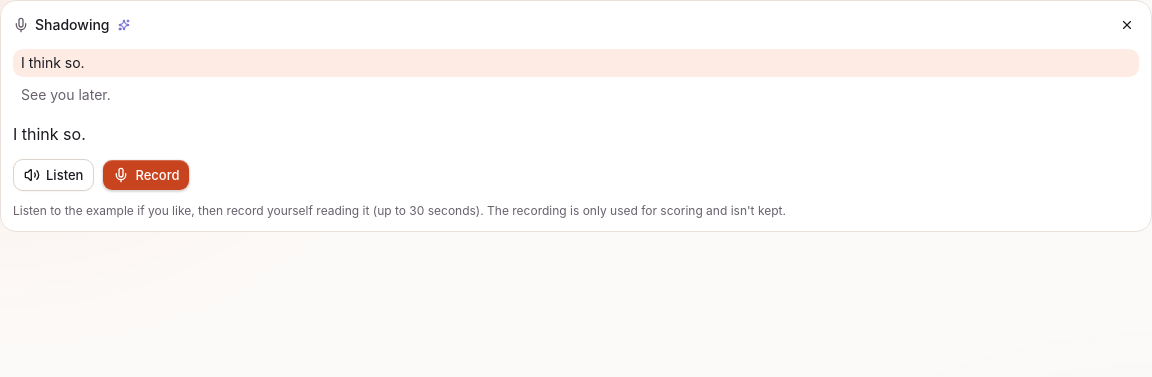
Test case: ShadowingPanel › adds a mispronounced word to the word list
Click the button with test id "shadowing-record". click: [146, 175]
box: [102,159,190,191]
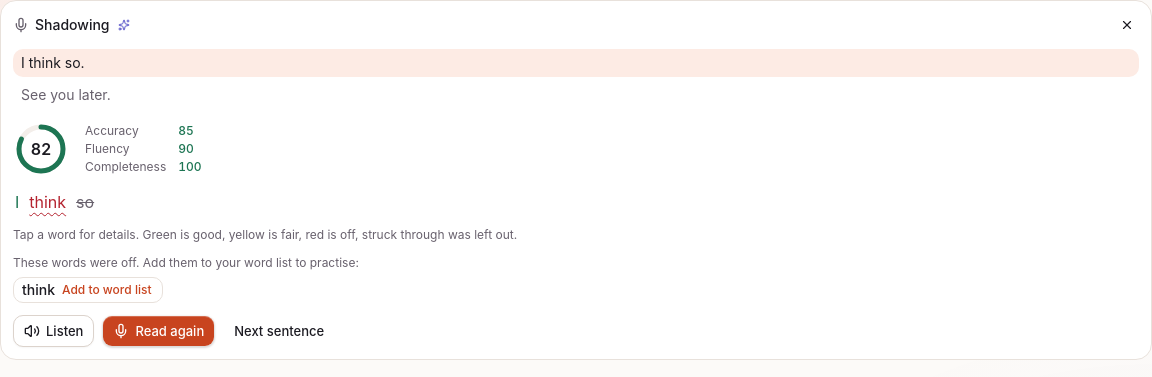
Click the button "Add to word list". click: [107, 290]
box: [59,281,154,299]
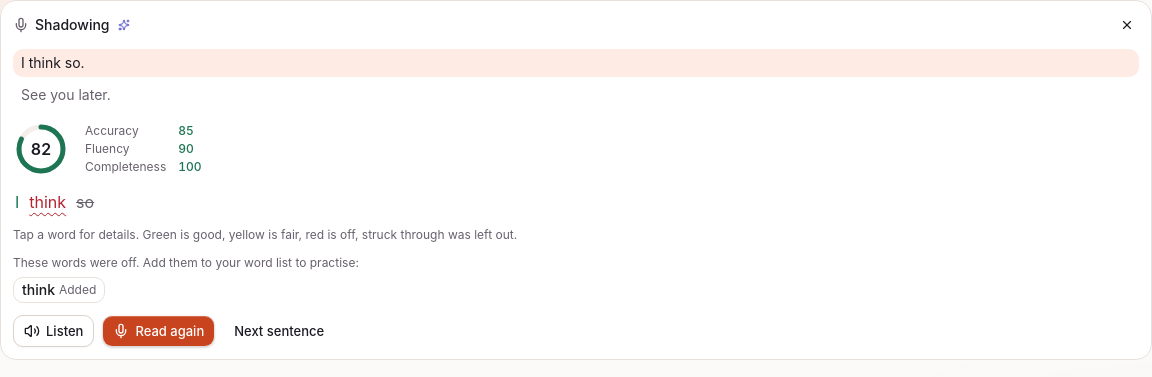
Check: the text "Added" is shown, box [59,282,96,298]
